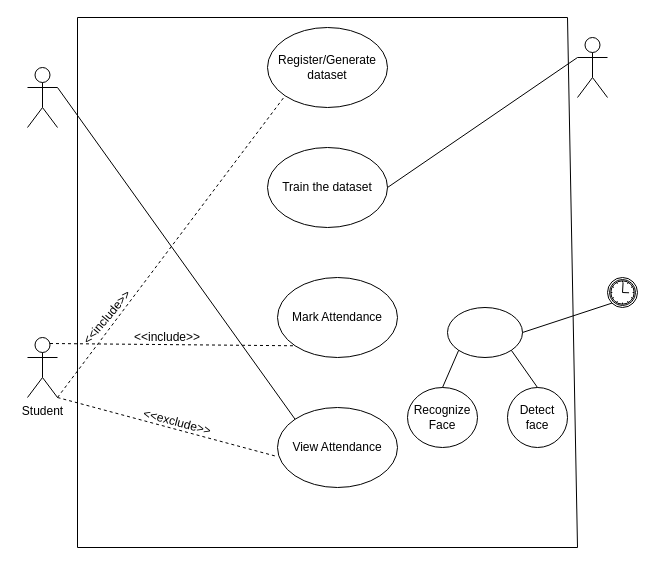
This 655x566 diagram has some shape labels left out. Each missing label, with the centre of its shape:
"Activate Camera" belongs at [484,332].
"Admin" belongs at [592,67].
"Professor" belongs at [42,97].
